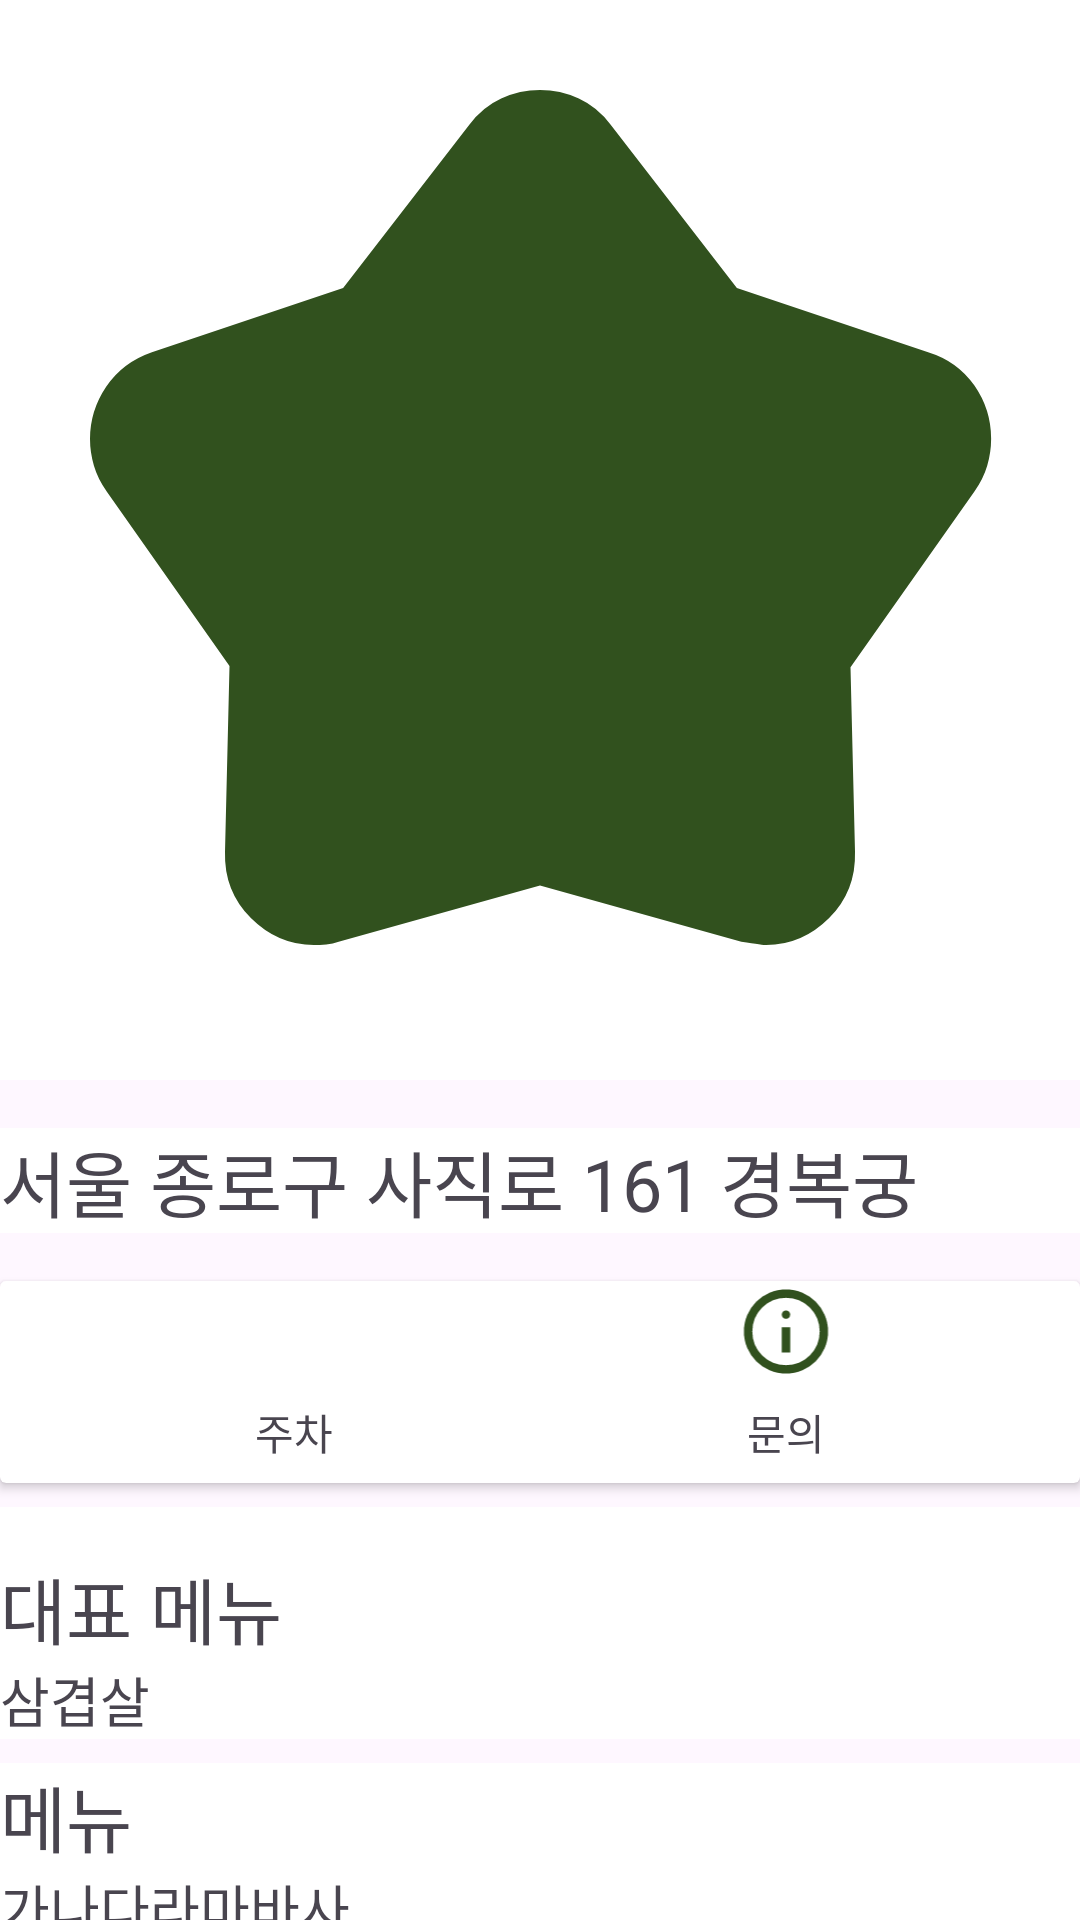

Icon click points for this 1080w x 1920h phone screenshot, format (x,y):
info: (786,1331)
